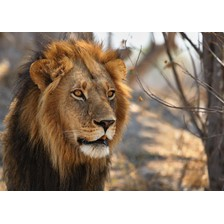lion: (0, 35, 133, 191)
